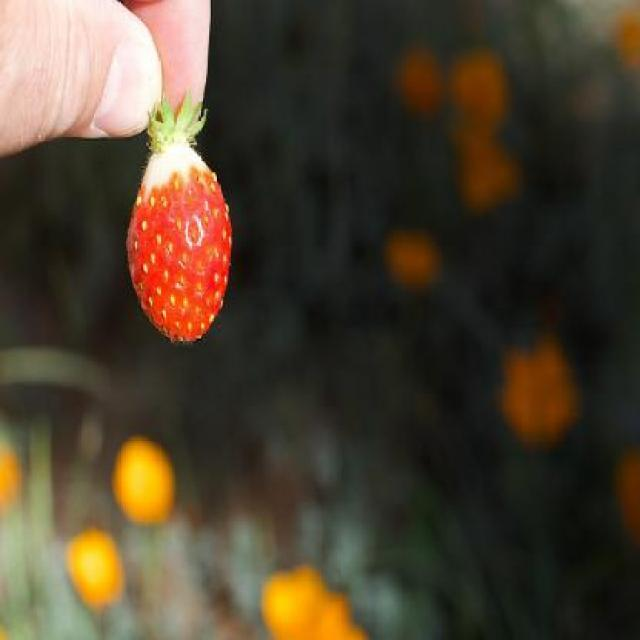Strawberry: (126, 97, 225, 336)
